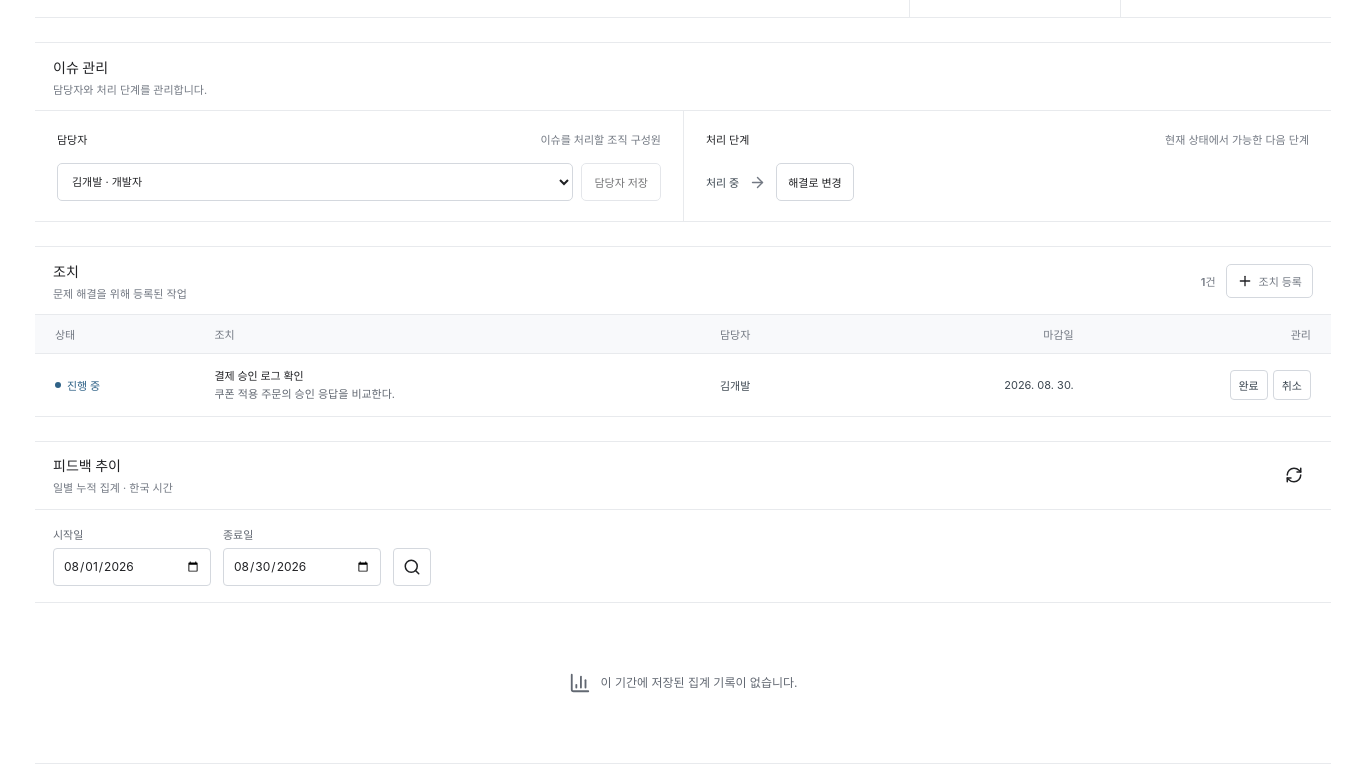
it: IssueDetailPage › updates an action with the server response
This screenshot has width=1366, height=768.
(page scrolled)
Expected: the text "결제 승인 로그 확인" is shown, [214,369,304,383]
Step 1. Click the button "완료" → [1249, 385], box [1230,370,1268,400]
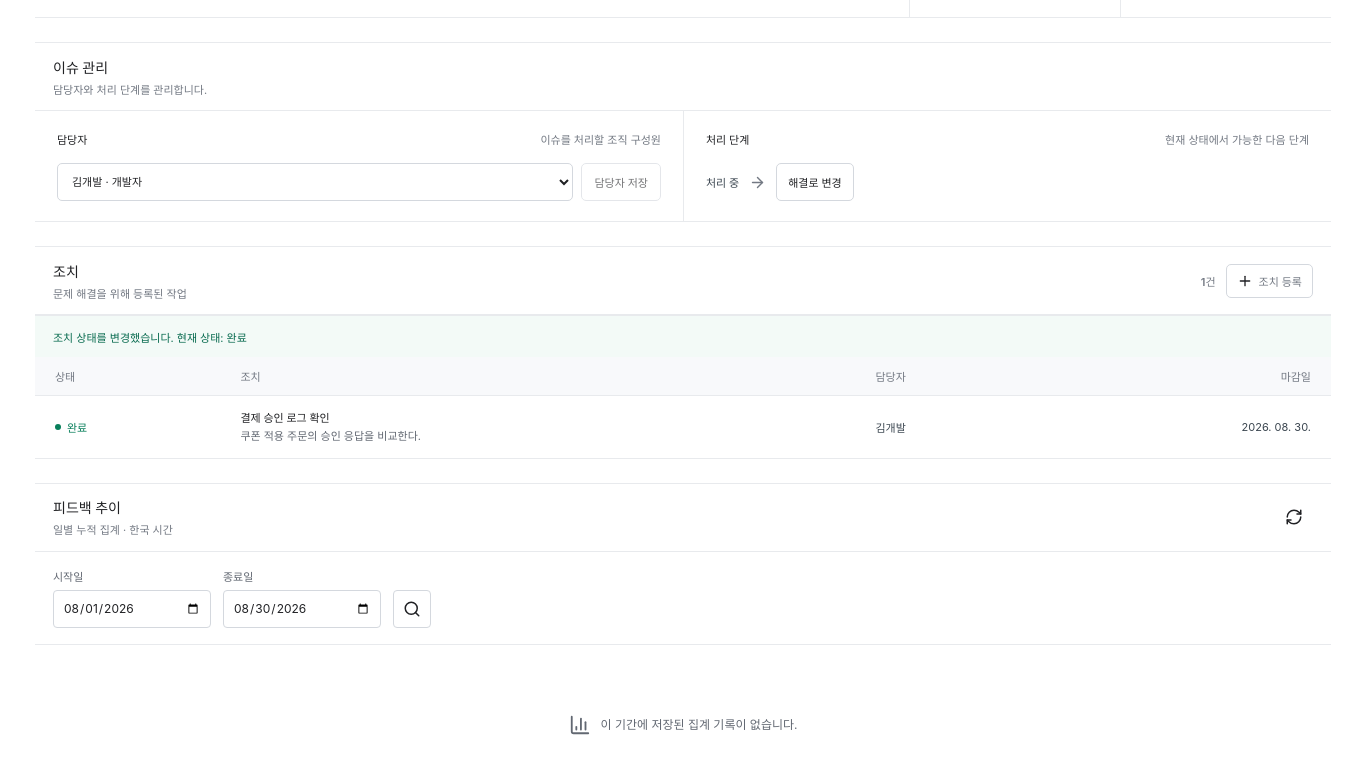
Expected: the text "조치 상태를 변경했습니다. 현재 상태: 완료" is shown, [53,329,247,345]
